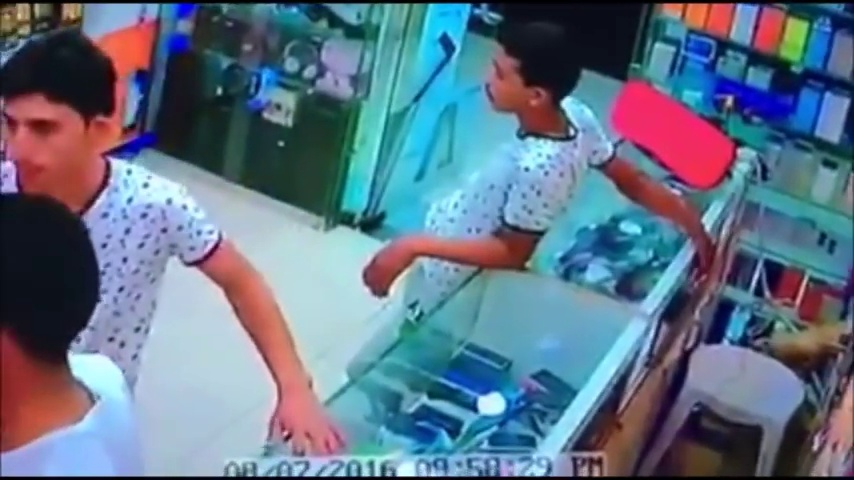face: (1, 95, 92, 194), (481, 46, 538, 111)
